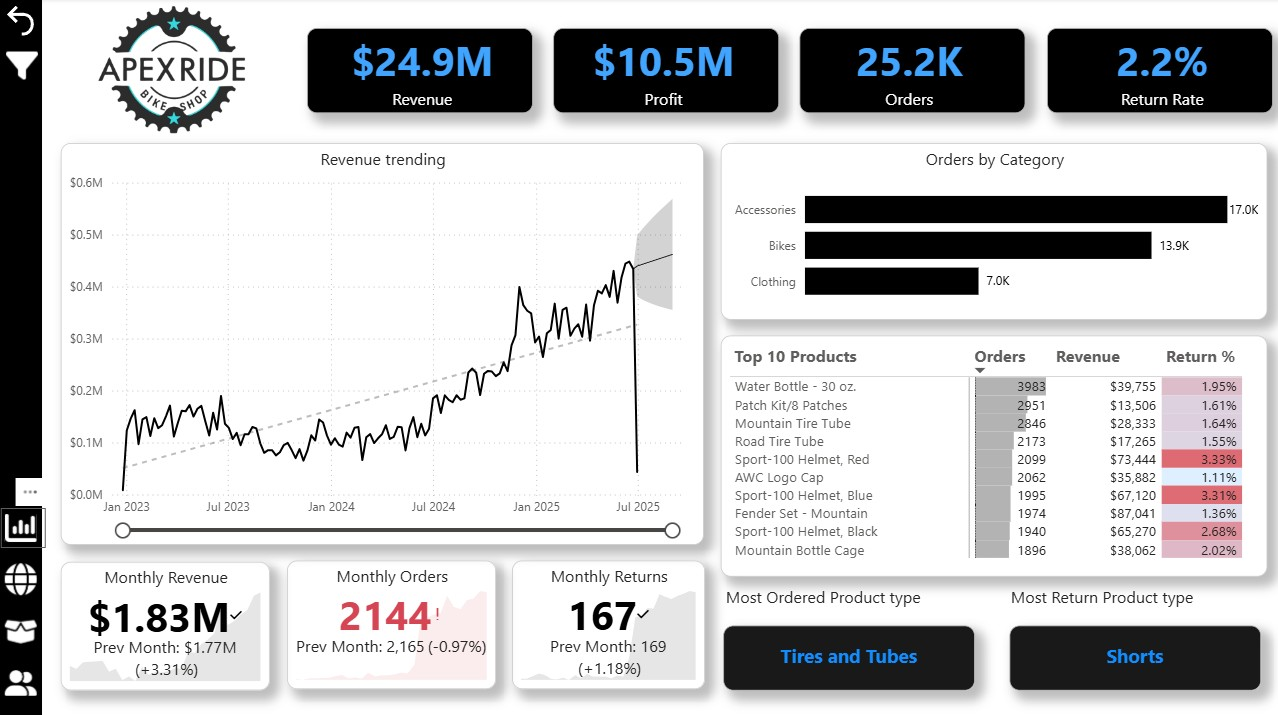

What the dashboard file says about the page in this screenshot:
{"tool":"powerbi","page":{"name":"Exec Dashboard","canvas":[1280,720],"ordinal":0},"visuals":[{"type":"card","fields":{"Values":["Measure Table.Total Revenue"]},"box":[304,16,240,112],"z":0,"group":"g2"},{"type":"group","id":"g1","title":"KPI Background","box":[308.4,29.3,961.2,85],"z":0,"group":"g3"},{"type":"shape","box":[308.4,29.3,225.2,85],"z":0,"group":"g1"},{"type":"lineChart","title":"Revenue trending","fields":{"Y":["Measure Table.Total Revenue"],"Category":["Calendar Lookup.Year Hierarchy.Year","Calendar Lookup.Year Hierarchy.Start of Month","Calendar Lookup.Year Hierarchy.Start of Week","Calendar Lookup.Year Hierarchy.Date"]},"box":[64,144,640,400],"z":0},{"type":"shape","title":"Left Nav Background","box":[0,0,45,720.3],"z":1000},{"type":"group","id":"g2","title":"KPI values","box":[304,16,976,112],"z":1000,"group":"g3"},{"type":"card","fields":{"Values":["Measure Table.Total Profit"]},"box":[544,16,240,112],"z":1000,"group":"g2"},{"type":"shape","box":[553.7,29.3,225.2,85],"z":1000,"group":"g1"},{"type":"group","id":"g3","title":"KPIs","box":[304,16,976,112],"z":2000},{"type":"card","fields":{"Values":["Measure Table.Total Orders"]},"box":[789.3,16,238.9,112],"z":2000,"group":"g2"},{"type":"shape","box":[1044.4,29.3,225.2,85],"z":2000,"group":"g1"},{"type":"card","fields":{"Values":["Measure Table.Return Rate"]},"box":[1040,16,240,112],"z":3000,"group":"g2"},{"type":"shape","box":[799.1,29.3,225.2,85],"z":3000,"group":"g1"},{"type":"kpi","title":"Monthly Revenue","fields":{"TrendLine":["Calendar Lookup.Start of Month"],"Indicator":["Measure Table.Total Revenue"],"Goal":["Measure Table.Previous month revenue"]},"box":[64,561.3,208,128],"z":3000},{"type":"kpi","title":"Monthly Returns","fields":{"TrendLine":["Calendar Lookup.Start of Month"],"Indicator":["Measure Table.Total Returns"],"Goal":["Measure Table.Previous month returns"]},"box":[512,560,192,128],"z":4000},{"type":"kpi","title":"Monthly Orders","fields":{"TrendLine":["Calendar Lookup.Start of Month"],"Indicator":["Measure Table.Total Orders"],"Goal":["Measure Table.Previous month orders"]},"box":[288,560,208,128],"z":5000},{"type":"clusteredBarChart","title":"Orders by Category","fields":{"Category":["Product Categories Lookup.CategoryName"],"Y":["Measure Table.Total Orders"]},"box":[720,144,544,176],"z":6000},{"type":"pivotTable","fields":{"Rows":["Product Lookup.ProductName"],"Values":["Measure Table.Total Orders","Measure Table.Total Revenue","Measure Table.Return Rate"]},"box":[720,336,544,240],"z":7000},{"type":"textbox","box":[719.9,579.3,251,44.7],"z":8000},{"type":"card","fields":{"Values":["Min(Product Subcategories Lookup.SubcategoryName)"]},"box":[722.8,624,250,65],"z":9000},{"type":"textbox","box":[1004.1,579.3,251,44.7],"z":10000},{"type":"card","fields":{"Values":["Min(Product Subcategories Lookup.SubcategoryName)"]},"box":[1008,624,250,65],"z":11000},{"type":"actionButton","box":[3.7,2.5,41.1,39.8],"z":12000},{"type":"actionButton","box":[4,507.5,44.8,39.8],"z":13000},{"type":"actionButton","box":[4,559,44.8,39.8],"z":14000},{"type":"actionButton","box":[4,610.4,44.8,39.8],"z":15000},{"type":"actionButton","box":[4,661.8,44.8,39.8],"z":16000},{"type":"actionButton","box":[5,47.3,39.8,39.8],"z":17000},{"type":"image","box":[48,0,256,144],"z":18000}]}

Visuals, with their boxes on the page's 1280x720 design canvas (x1, y1, x2, y2). These are canvas units, not pixel positions in the 1278x715 screenshot, which may show the page scaled, cropped or inside an application window:
card - Measure Table.Total Revenue: box=[304, 16, 544, 128]
"KPI Background" group: box=[308, 29, 1270, 114]
shape: box=[308, 29, 534, 114]
"Revenue trending" lineChart: box=[64, 144, 704, 544]
"Left Nav Background" shape: box=[0, 0, 45, 720]
"KPI values" group: box=[304, 16, 1280, 128]
card - Measure Table.Total Profit: box=[544, 16, 784, 128]
shape: box=[554, 29, 779, 114]
"KPIs" group: box=[304, 16, 1280, 128]
card - Measure Table.Total Orders: box=[789, 16, 1028, 128]
shape: box=[1044, 29, 1270, 114]
card - Measure Table.Return Rate: box=[1040, 16, 1280, 128]
shape: box=[799, 29, 1024, 114]
"Monthly Revenue" kpi: box=[64, 561, 272, 689]
"Monthly Returns" kpi: box=[512, 560, 704, 688]
"Monthly Orders" kpi: box=[288, 560, 496, 688]
"Orders by Category" clusteredBarChart: box=[720, 144, 1264, 320]
pivotTable - Product Lookup.ProductName x Measure Table.Total Orders: box=[720, 336, 1264, 576]
textbox: box=[720, 579, 971, 624]
card - Min(Product Subcategories Lookup.SubcategoryName): box=[723, 624, 973, 689]
textbox: box=[1004, 579, 1255, 624]
card - Min(Product Subcategories Lookup.SubcategoryName): box=[1008, 624, 1258, 689]
actionButton: box=[4, 2, 45, 42]
actionButton: box=[4, 508, 49, 547]
actionButton: box=[4, 559, 49, 599]
actionButton: box=[4, 610, 49, 650]
actionButton: box=[4, 662, 49, 702]
actionButton: box=[5, 47, 45, 87]
image: box=[48, 0, 304, 144]
